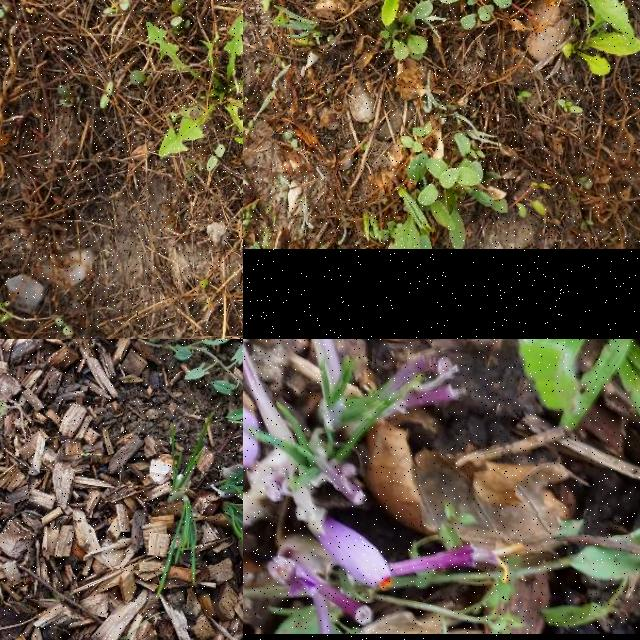flower: (314, 520, 392, 590)
